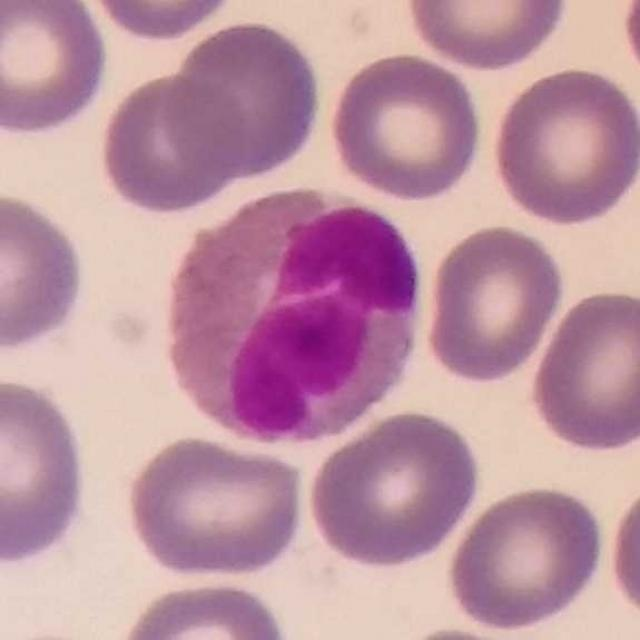Eosinophil: (156, 190, 428, 453)
RBC: (304, 406, 485, 570), (119, 431, 311, 582), (162, 15, 326, 184), (487, 62, 639, 230), (324, 48, 486, 204), (443, 480, 608, 633), (420, 220, 568, 388), (94, 68, 250, 218), (525, 284, 639, 457), (0, 370, 91, 572), (0, 0, 112, 141), (0, 185, 91, 356), (402, 0, 571, 73), (112, 576, 294, 640), (80, 0, 240, 43), (603, 473, 640, 632), (383, 623, 558, 640), (616, 0, 640, 100)
